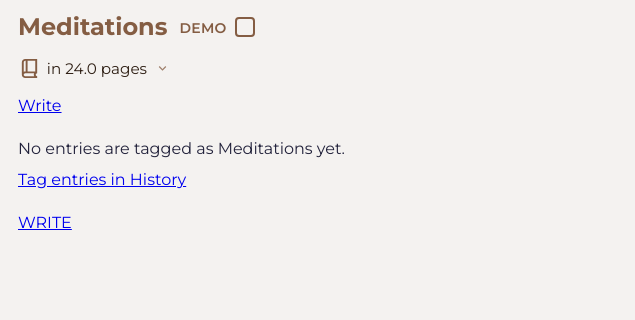
JournalMeditations pages-left countdown › hides the dropdown hint while the goal menu is open
Expected: the text "in 24.0 pages" is shown, [47,59,147,78]
Expected: the picture with class "journal-meditations__progress-dropdown-icon" is shown, [155,61,170,76]
Step 1. Click the button with aria-label "Meditation progress goal" → (97, 68), box [18,57,618,80]
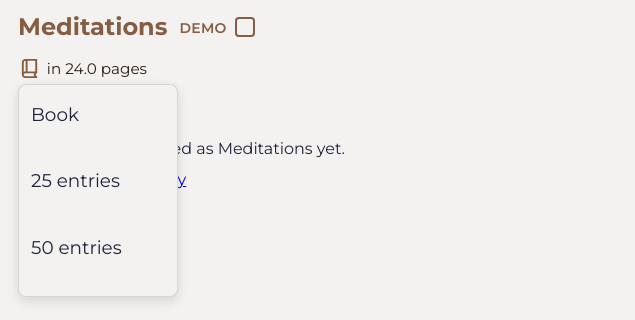
Expected: the picture with class "journal-meditations__progress-dropdown-icon" is gone
Step 2. Press Escape
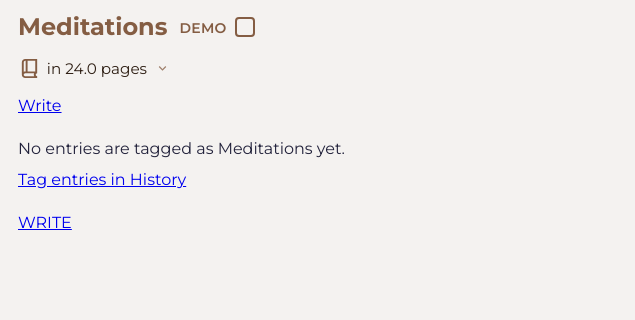
Expected: the picture with class "journal-meditations__progress-dropdown-icon" is shown, [155,61,170,76]
